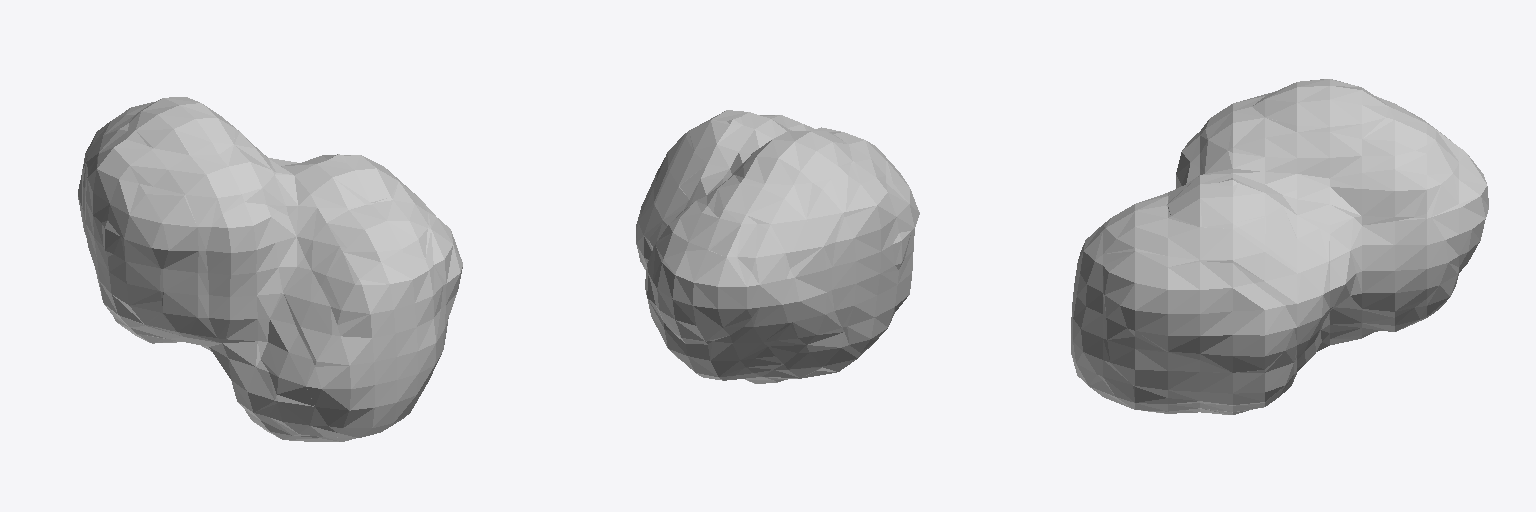
The model's file is 1ek6_cms.obj.
3 renders of one model, left to right at view 1: azimuth 30°, elevation 25°; view 2: azimuth 150°, elevation 25°; view 3: azimuth 270°, elevation 25°, orthographic.
Size of the model in its own units: 76.67 by 74.55 by 97.32.